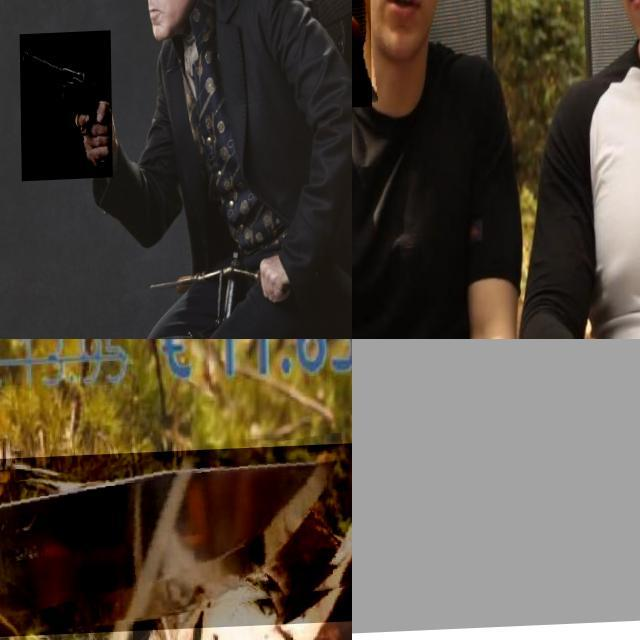-: (0, 448, 352, 640), (352, 0, 389, 134)
gun-knife-thesis - v11 Yolov5 augmented: (352, 339, 640, 640), (18, 32, 112, 182), (125, 0, 198, 39)
